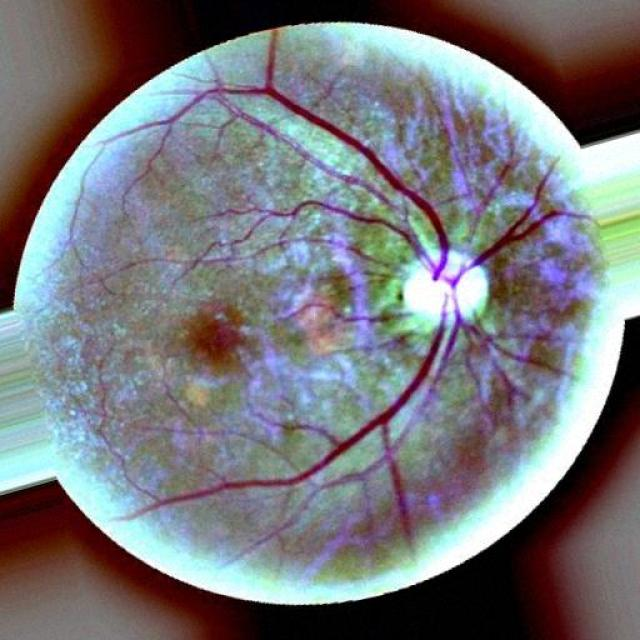Macula: (186, 306, 244, 374)
Nerves: (111, 30, 588, 392), (140, 311, 445, 539), (335, 310, 411, 328), (371, 330, 415, 346)
Optic Disk: (402, 250, 488, 324)
